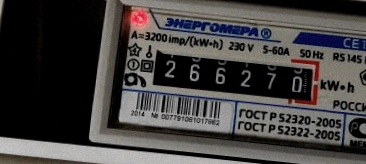0: (287, 73, 303, 94)
2: (161, 57, 176, 80), (238, 67, 253, 89)
6: (186, 61, 200, 83), (212, 65, 227, 85)
7: (264, 70, 276, 90)
screen: (138, 38, 326, 112)
